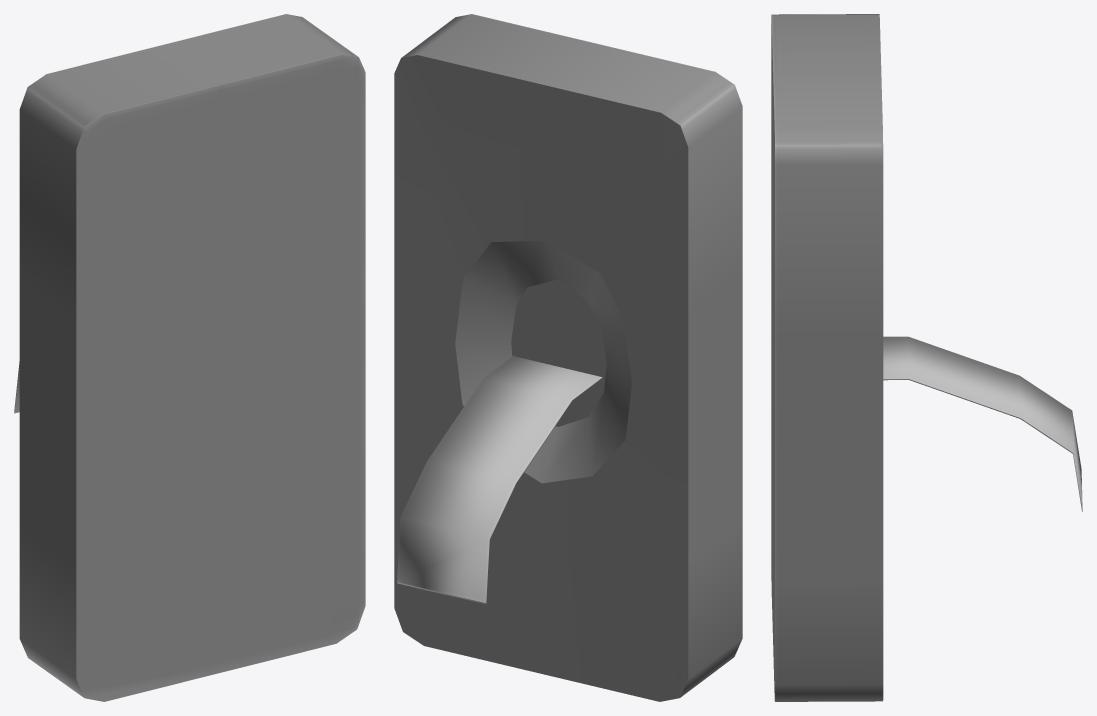
The model's file is Tissu box 2.fbx.
The picture shows the model from 3 angles, left to right: view 1: azimuth 30°, elevation 25°; view 2: azimuth 150°, elevation 25°; view 3: azimuth 270°, elevation 25°; orthographic projection. The views are drawn at different scales.
Parts seen in each view (by area): view 1: prop_Btr_Tissuebox; view 2: prop_Btr_Tissuebox; view 3: prop_Btr_Tissuebox.
Boxes of the visible parts, x1,y1,x2,y2 form: prop_Btr_Tissuebox: [14, 14, 365, 701]; prop_Btr_Tissuebox: [394, 14, 742, 701]; prop_Btr_Tissuebox: [771, 14, 1082, 701].
Bounding box in the file's own units: 0.1008 × 0.1935 × 0.0953.
